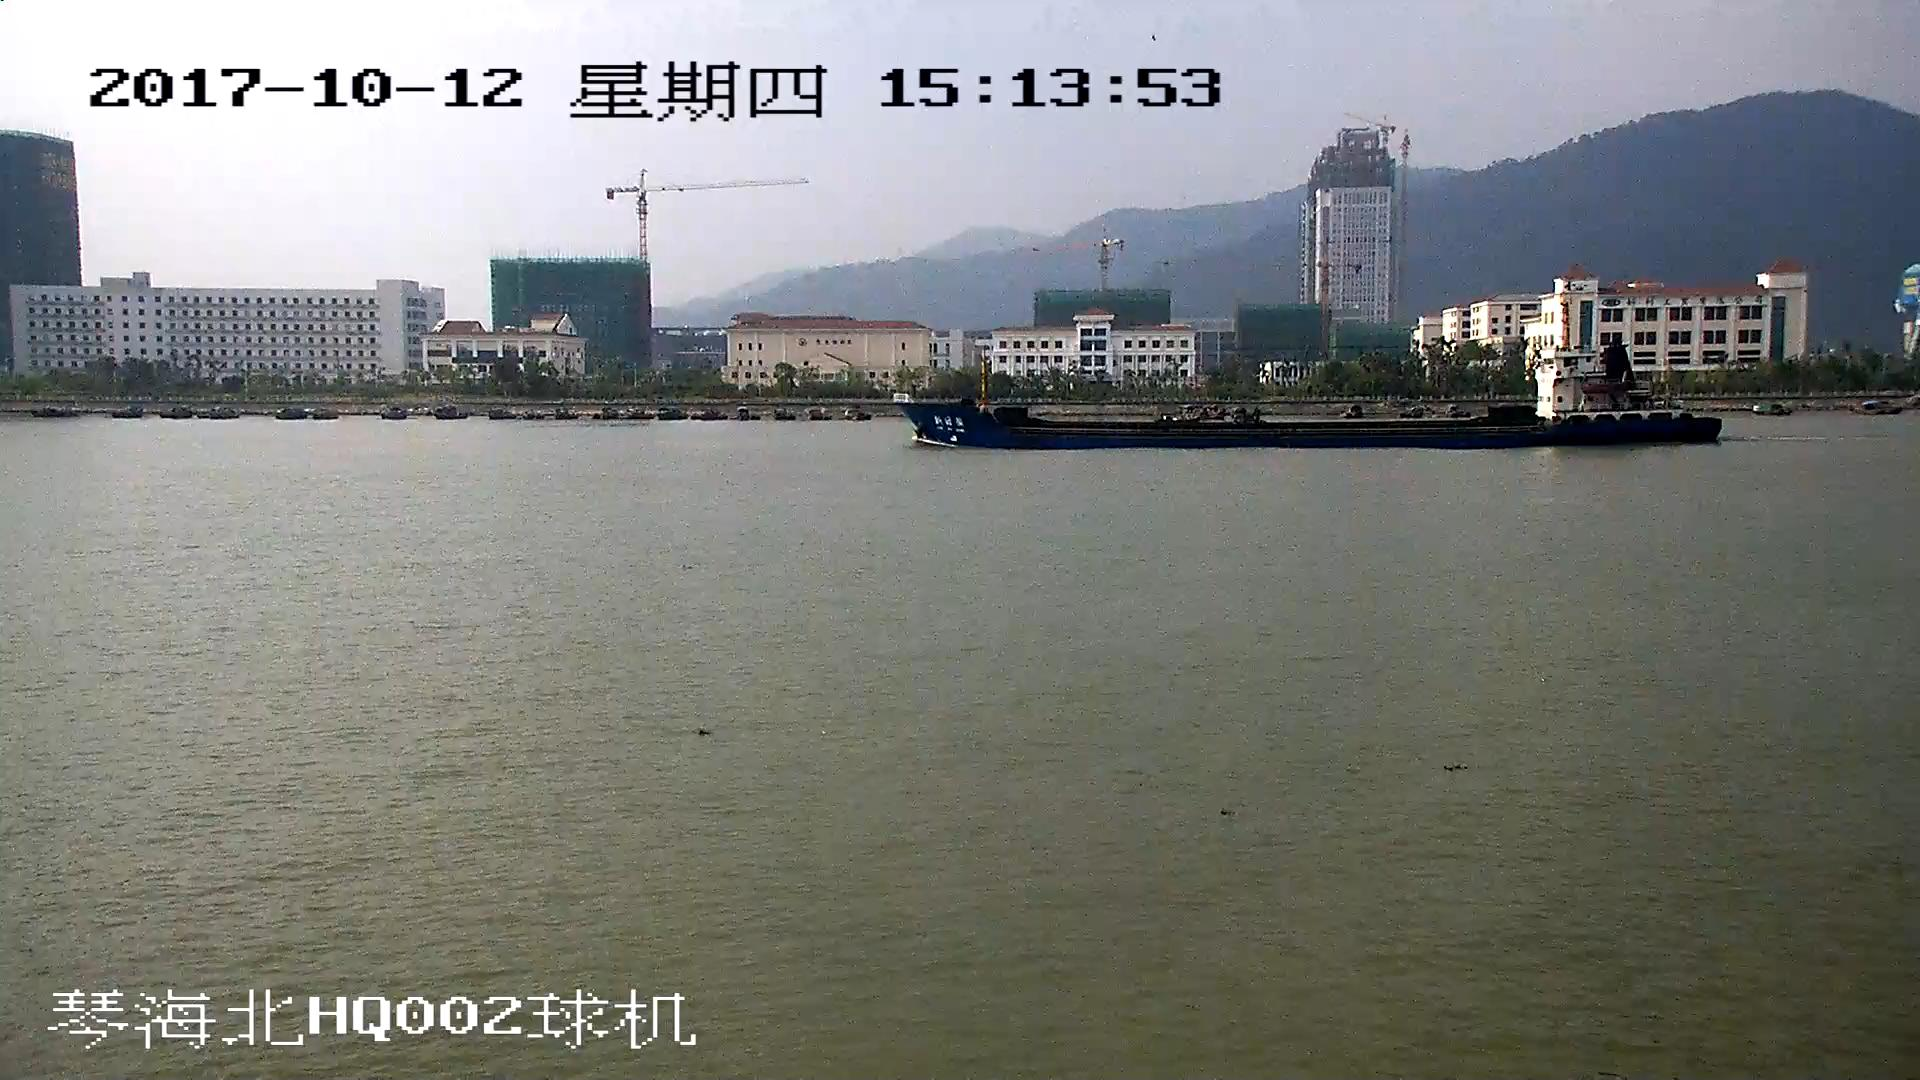general cargo ship: (895, 315, 1722, 449)
